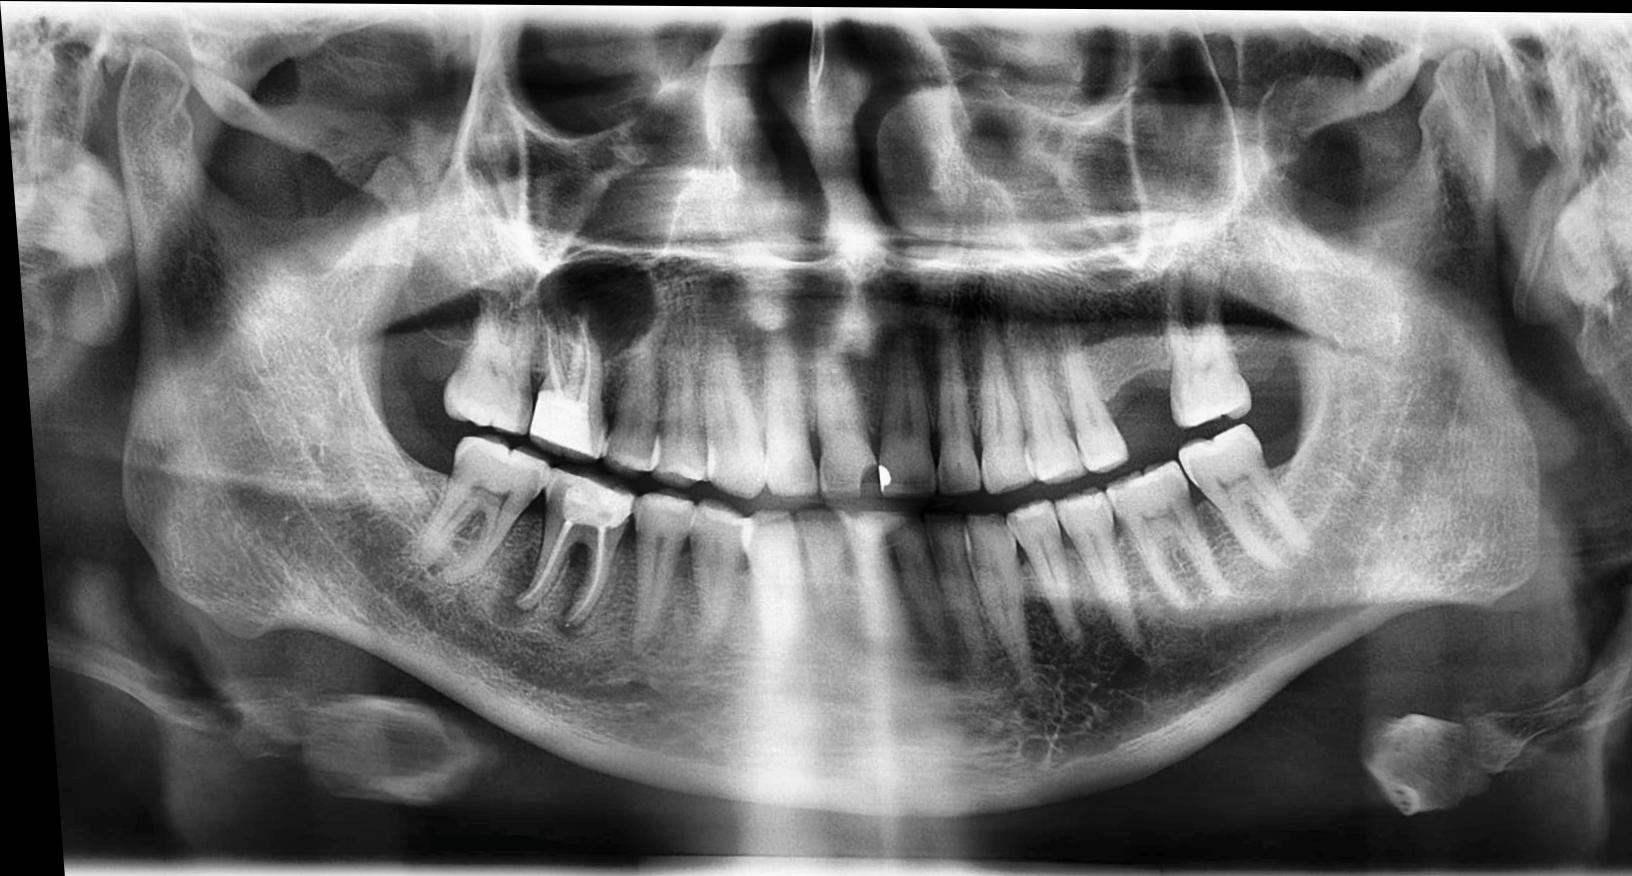radicular: (526, 249, 662, 364)
